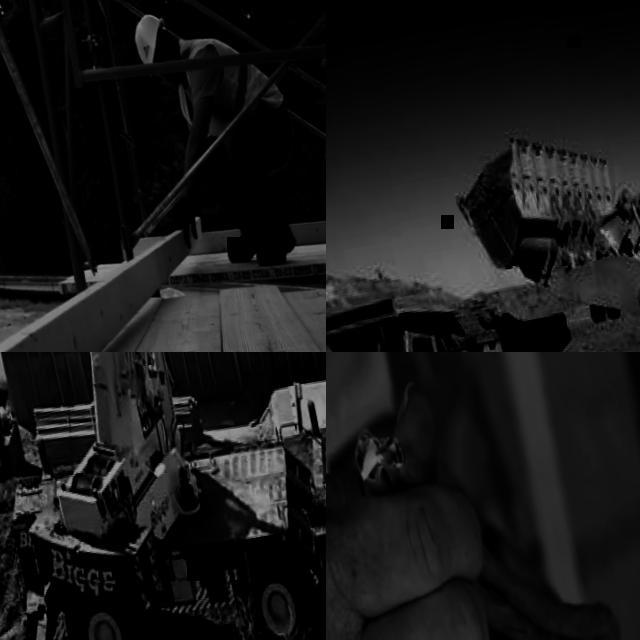helmet: (130, 11, 173, 78)
vest: (326, 352, 425, 619), (166, 20, 289, 141)
